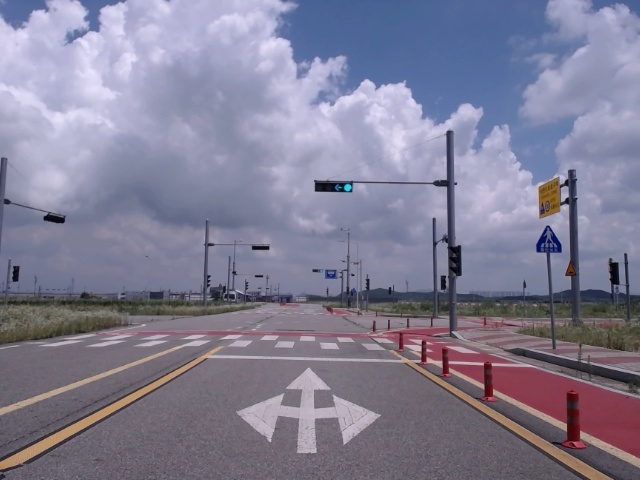all_green_4: (314, 179, 354, 192)
